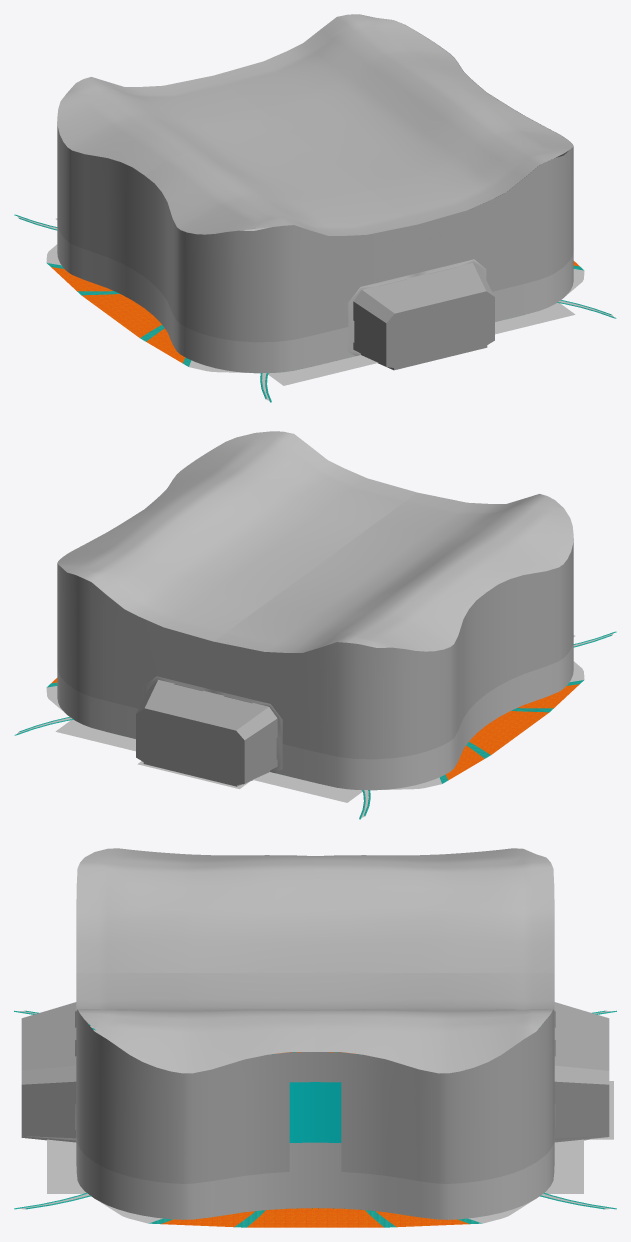
The picture shows the model from 3 angles, top to bottom: view 1: azimuth 30°, elevation 25°; view 2: azimuth 150°, elevation 25°; view 3: azimuth 270°, elevation 25°; orthographic projection. The views are drawn at different scales.
Visible parts, largest first — view 1: floor_blu1; view 2: floor_blu1; view 3: floor_blu1.
Part boxes in pixels (box(x1,y1,x2,y2)): floor_blu1: box(14, 14, 616, 402); floor_blu1: box(14, 431, 616, 819); floor_blu1: box(14, 848, 616, 1227).
Bounding box in the file's own units: 29548 × 10141 × 32044.
